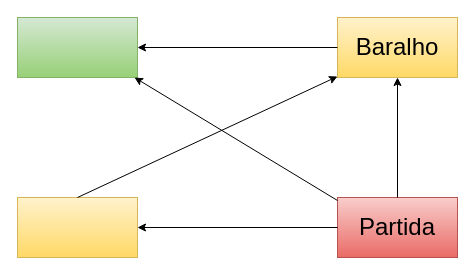
The diagram is 475 pixels wide and 275 high, and some of its shapes have lost their labels. Here are the shapes that lost their labels. From the top down, the box of each, then its label:
(16, 16, 138, 78): Lista
(16, 196, 138, 258): Mesa
